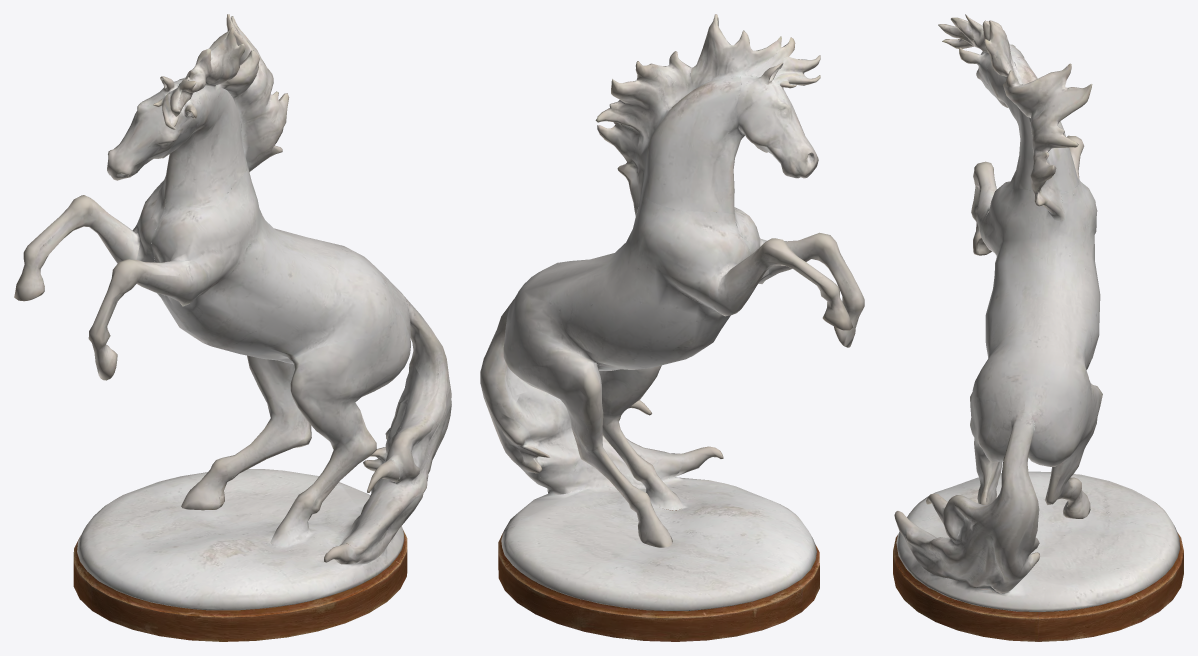
File: horse_statue_01.glb
3 renders of one model, left to right at view 1: azimuth 30°, elevation 25°; view 2: azimuth 150°, elevation 25°; view 3: azimuth 270°, elevation 25°, orthographic. The views are drawn at different scales.
Parts seen in each view (by area): view 1: horse_statue_01; view 2: horse_statue_01; view 3: horse_statue_01.
Boxes of the visible parts, x1,y1,x2,y2 form: horse_statue_01: (14,14,451,641); horse_statue_01: (480,14,864,641); horse_statue_01: (893,14,1183,641).
Bounding box in the file's own units: 0.1629 × 0.2199 × 0.1078.
2 materials, 2 textured.
